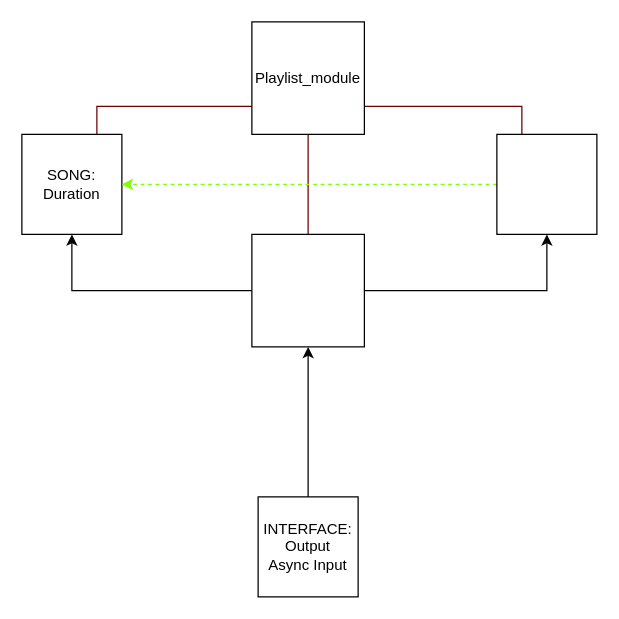
The diagram is 619 pixels wide and 619 high, and some of its shapes have lost their labels. The shapes that lost their labels are listed below. From the top down, each one's centre as x and y in pixels, then its label:
At [546,183]: "PLAYER: Song".
At [307,290]: "PLAYLIST: Play Pause AddSong Next Prev".
